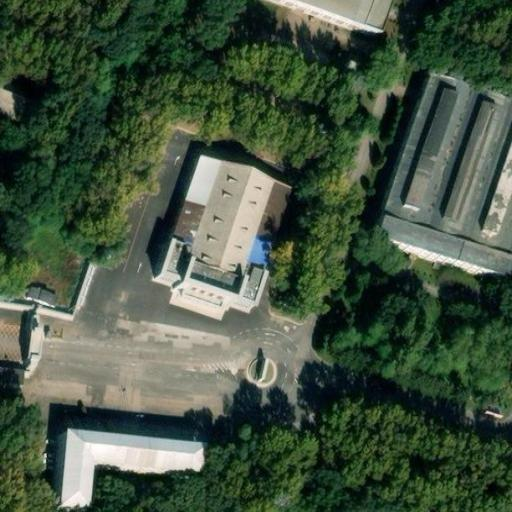building: (158, 152, 272, 315), (374, 62, 478, 231), (55, 433, 200, 512), (368, 208, 512, 279), (437, 94, 502, 227), (478, 130, 512, 249), (24, 280, 59, 305)
